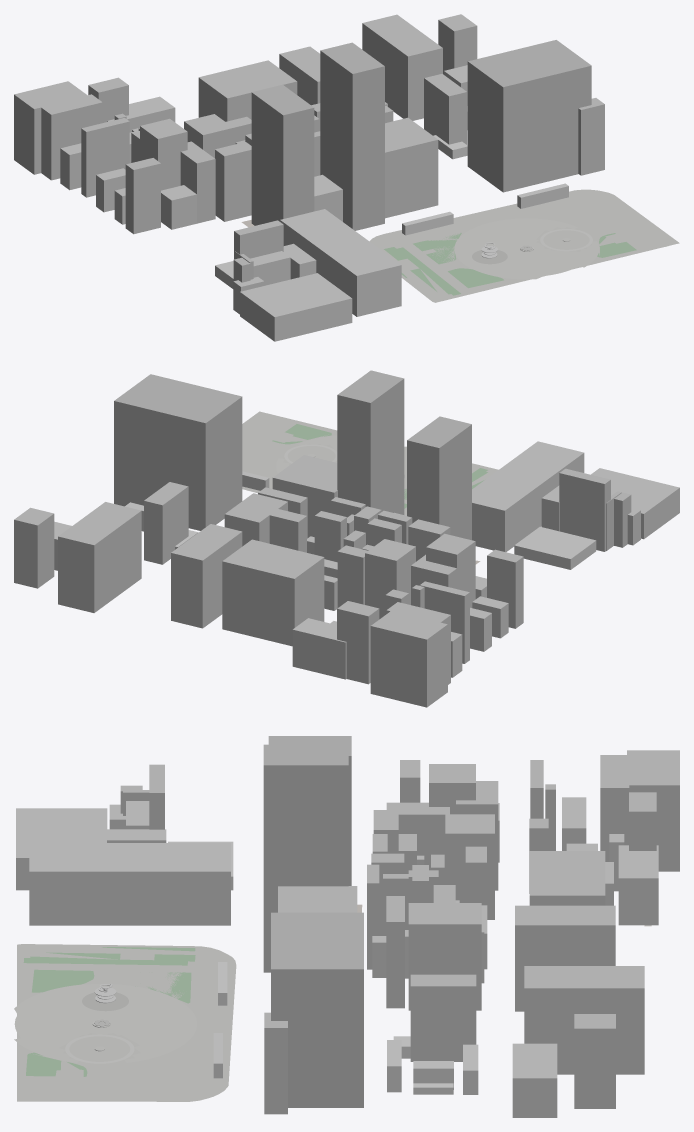
The model's file is 119_100_mid.glb.
3 renders of one model, top to bottom at view 1: azimuth 30°, elevation 25°; view 2: azimuth 150°, elevation 25°; view 3: azimuth 270°, elevation 25°, orthographic. The views are drawn at different scales.
Size of the model in its own units: 523 by 184 by 524.
